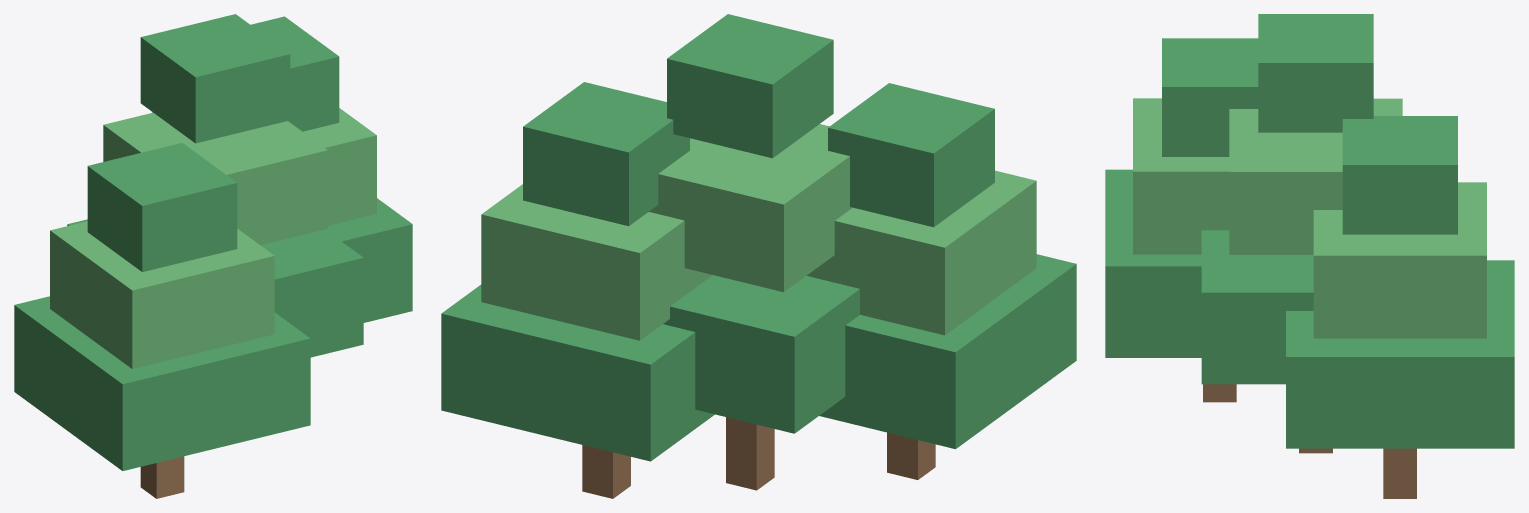
Rendered from voxel-jinan-pine-cluster.gltf.
The picture shows the model from 3 angles, left to right: view 1: azimuth 30°, elevation 25°; view 2: azimuth 150°, elevation 25°; view 3: azimuth 270°, elevation 25°; orthographic projection. The views are drawn at different scales.
Bounding box in the file's own units: 1.9 × 1.87 × 1.7.
